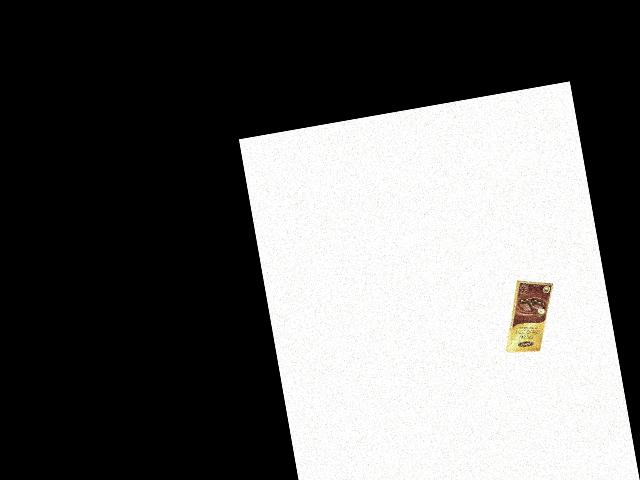chocolate: (490, 267, 564, 357)
